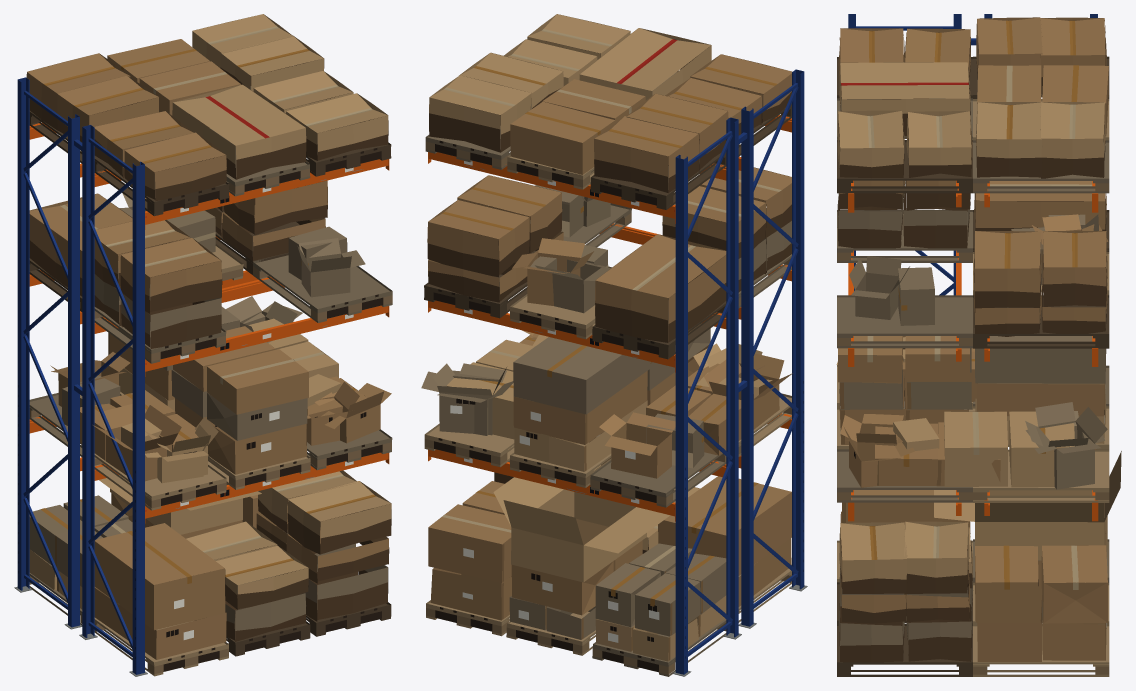
File: rack@3.glb
3 renders of one model, left to right at view 1: azimuth 30°, elevation 25°; view 2: azimuth 150°, elevation 25°; view 3: azimuth 270°, elevation 25°, orthographic. The views are drawn at different scales.
Parts seen in each view (by area): view 1: rack12, rack19, rack0, rack18, rack17, rack4, rack21, rack16, rack9, rack11, rack10, rack15 (+2 smaller); view 2: rack12, rack19, rack0, rack18, rack17, rack4, rack9, rack21, rack16, rack11, rack10, rack15 (+3 smaller); view 3: rack12, rack19, rack18, rack17, rack21, rack16, rack9, rack15, rack20, rack4, rack10, rack0 (+1 smaller).
Part boxes in pixels (box(x1,y1,x2,y2)): rack12: box(26, 39, 391, 659); rack19: box(29, 14, 391, 609); rack0: box(17, 77, 144, 674); rack18: box(29, 193, 388, 630); rack17: box(29, 62, 391, 641); rack4: box(29, 123, 389, 523); rack21: box(29, 86, 392, 625); rack16: box(29, 99, 391, 656); rack9: box(94, 244, 310, 676); rack11: box(160, 148, 383, 671); rack10: box(29, 168, 392, 674); rack15: box(40, 49, 376, 583); rack12: box(427, 54, 792, 620); rack19: box(429, 14, 772, 661); rack0: box(675, 69, 804, 674); rack18: box(421, 170, 791, 639); rack17: box(427, 41, 791, 553); rack4: box(428, 115, 791, 521); rack9: box(424, 155, 791, 655); rack21: box(425, 70, 791, 676); rack16: box(424, 43, 791, 359); rack11: box(433, 140, 658, 672); rack10: box(424, 141, 791, 674); rack15: box(442, 66, 776, 606); rack12: box(838, 17, 1108, 661); rack19: box(836, 62, 1121, 581); rack18: box(837, 181, 1107, 645); rack17: box(837, 40, 1107, 662); rack21: box(837, 98, 1109, 582); rack16: box(837, 56, 1109, 676); rack9: box(837, 99, 1109, 676); rack15: box(869, 20, 1078, 589); rack20: box(867, 65, 1092, 589); rack4: box(848, 180, 1098, 521); rack10: box(837, 183, 1109, 674); rack0: box(848, 14, 1097, 295).
Bounding box in the file's own units: 2.91 × 5.23 × 2.51.
